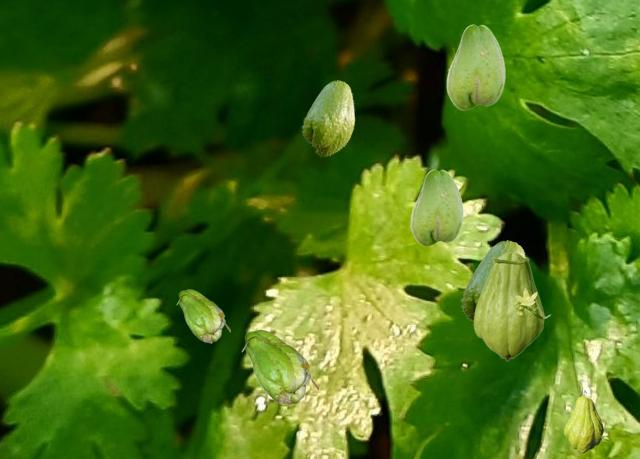sayote: (473, 252, 550, 360), (241, 329, 317, 405), (460, 240, 526, 326), (446, 24, 504, 109), (301, 80, 354, 156), (410, 169, 462, 245), (176, 289, 229, 342), (564, 390, 602, 452)
